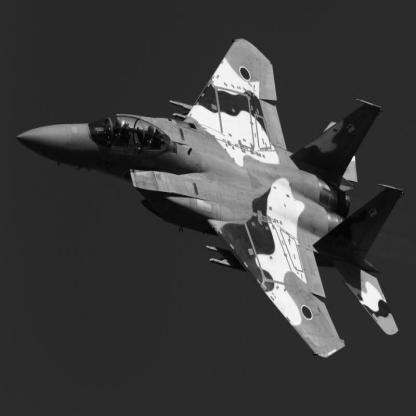F15: (17, 38, 405, 360)
